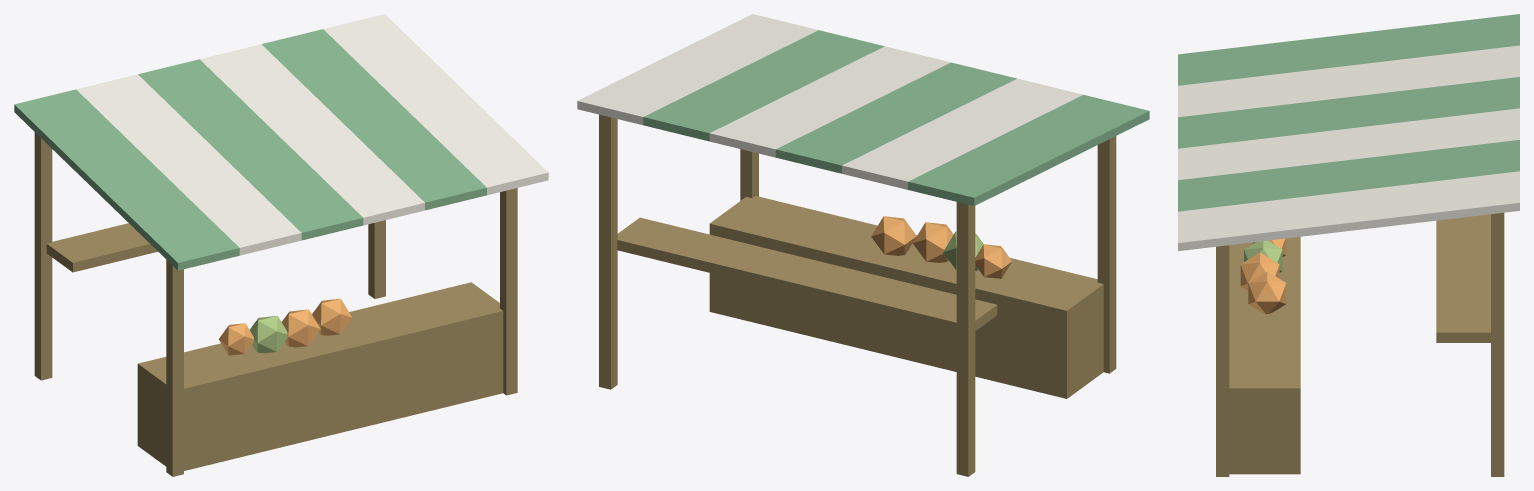
The model's file is market_s1_01.glb.
3 views of the same model, side by side, from view 1: azimuth 30°, elevation 25°; view 2: azimuth 150°, elevation 25°; view 3: azimuth 270°, elevation 25° (orthographic). The views are drawn at different scales.
Parts seen in each view (by area): view 1: part01, part00, part04, part03, part02; view 2: part01, part00, part04, part03; view 3: part04, part00, part01, part03, part02.
Part boxes in pixels (x1,y1,x2,y2): part01: (34,132,517,476); part00: (14,29,486,270); part04: (76,14,548,255); part03: (218,298,352,355); part02: (250,315,287,353); part01: (599,114,1116,476); part00: (643,30,1149,205); part04: (577,14,1082,189); part03: (871,216,1012,278); part04: (1178,45,1519,251); part00: (1178,14,1519,211); part01: (1216,212,1504,476); part03: (1240,238,1286,313); part02: (1244,240,1282,272).
Bounding box in the file's own units: 4.01 × 2.78 × 3.07.
